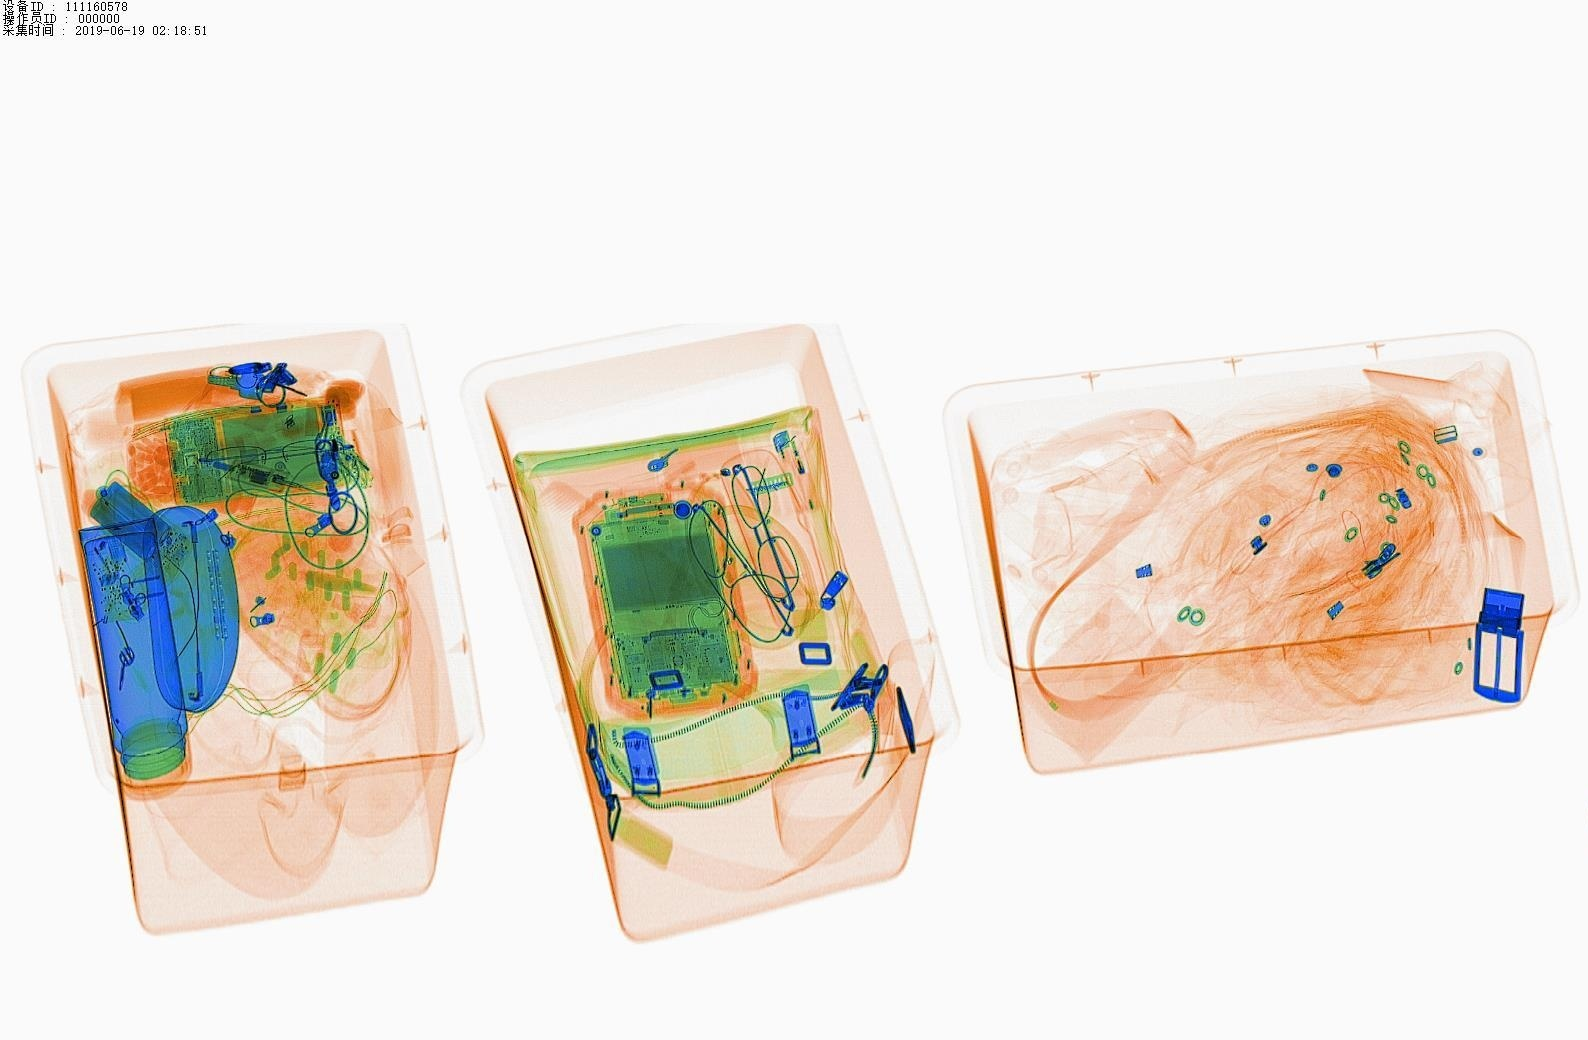NonmetallicFire: (761, 398, 837, 533)
